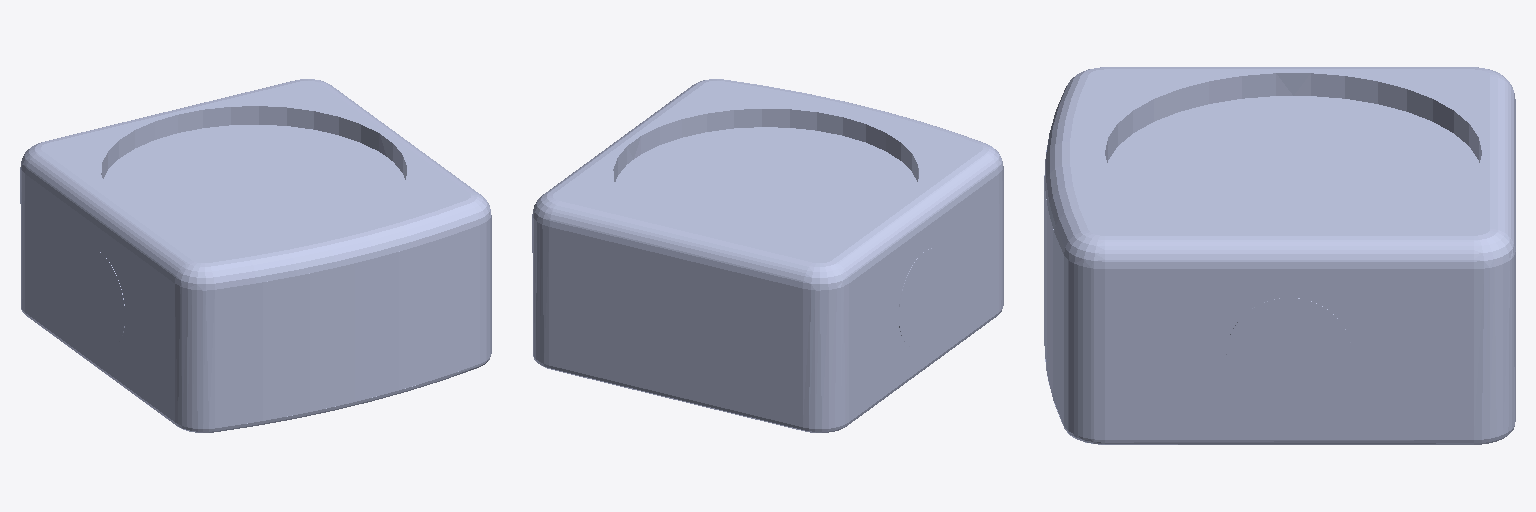
The robot description file, URDF, robot "pegasus":
<?xml version="1.0" encoding="utf-8"?>
<!-- This URDF was automatically created by SolidWorks to URDF Exporter! Originally created by [author] ([email redacted]) 
     Commit Version: 1.6.0-1-g15f4949  Build Version: 1.6.7594.29634
     For more information, please see http://wiki.ros.org/sw_urdf_exporter -->
<robot
  name="pegasus">
  <link
    name="base_link">
    <inertial>
      <origin
        xyz="-5.1322E-12 -0.0039245 -0.031363"
        rpy="0 0 0" />
      <mass
        value="18.619" />
      <inertia
        ixx="0.73322"
        ixy="8.2027E-12"
        ixz="3.3043E-12"
        iyy="1.3719"
        iyz="-0.011811"
        izz="0.93289" />
    </inertial>
    <visual>
      <origin
        xyz="0 0 0"
        rpy="0 0 0" />
      <geometry>
        <mesh
          filename="package://pegasus/meshes/base_link.STL" />
      </geometry>
      <material
        name="">
        <color
          rgba="0.79216 0.81961 0.93333 1" />
      </material>
    </visual>
    <collision>
      <origin
        xyz="0 0 0"
        rpy="0 0 0" />
      <geometry>
        <mesh
          filename="package://pegasus/meshes/base_link.STL" />
      </geometry>
    </collision>
  </link>
  <link
    name="symbol_link">
    <inertial>
      <origin
        xyz="-4.5103E-17 -4.9083E-17 1.7E-16"
        rpy="0 0 0" />
      <mass
        value="0.017671" />
      <inertia
        ixx="2.4851E-05"
        ixy="8.4503E-22"
        ixz="-2.369E-21"
        iyy="4.9701E-05"
        iyz="1.16E-20"
        izz="2.4851E-05" />
    </inertial>
    <visual>
      <origin
        xyz="0 0 0"
        rpy="0 0 0" />
      <geometry>
        <mesh
          filename="package://pegasus/meshes/symbol_link.STL" />
      </geometry>
      <material
        name="">
        <color
          rgba="0.79216 0.81961 0.93333 1" />
      </material>
    </visual>
    <collision>
      <origin
        xyz="0 0 0"
        rpy="0 0 0" />
      <geometry>
        <mesh
          filename="package://pegasus/meshes/symbol_link.STL" />
      </geometry>
    </collision>
  </link>
  <joint
    name="symbol_joint"
    type="fixed">
    <origin
      xyz="0 -0.0050515 -0.01"
      rpy="-3.1416 -1.5617 -1.5708" />
    <parent
      link="base_link" />
    <child
      link="symbol_link" />
    <axis
      xyz="0 1 0" />
  </joint>
  <link
    name="inner_link">
    <inertial>
      <origin
        xyz="-5.1322E-12 -0.0039245 -0.031363"
        rpy="0 0 0" />
      <mass
        value="18.619" />
      <inertia
        ixx="0.73322"
        ixy="8.2027E-12"
        ixz="3.3043E-12"
        iyy="1.3719"
        iyz="-0.011811"
        izz="0.93289" />
    </inertial>
    <visual>
      <origin
        xyz="0 0 0"
        rpy="0 0 0" />
      <geometry>
        <mesh
          filename="package://pegasus/meshes/inner_link.STL" />
      </geometry>
      <material
        name="">
        <color
          rgba="0.79216 0.81961 0.93333 1" />
      </material>
    </visual>
    <collision>
      <origin
        xyz="0 0 0"
        rpy="0 0 0" />
      <geometry>
        <mesh
          filename="package://pegasus/meshes/inner_link.STL" />
      </geometry>
    </collision>
  </link>
  <joint
    name="inner_joint"
    type="fixed">
    <origin
      xyz="-0.01 -0.0050515 -0.01"
      rpy="-1.5708 0 -3.1416" />
    <parent
      link="base_link" />
    <child
      link="inner_link" />
    <axis
      xyz="0 0 0" />
  </joint>
</robot>

--- Render facts (derived) ---
Views: 3 orthographic renders of the robot side by side, from view 1: azimuth 30°, elevation 25°; view 2: azimuth 150°, elevation 25°; view 3: azimuth 270°, elevation 25°.
Model pegasus with 3 links and 2 joints (2 fixed), rooted at base_link, posed every joint at zero.
Links seen in each view (by area): view 1: base_link, inner_link, symbol_link; view 2: base_link, inner_link, symbol_link; view 3: base_link, inner_link, symbol_link.
Link boxes in pixels (<box>): base_link: <box>20,79,491,432</box>; inner_link: <box>103,125,479,427</box>; symbol_link: <box>74,248,124,347</box>; base_link: <box>532,79,1003,432</box>; inner_link: <box>615,127,916,237</box>; symbol_link: <box>899,248,949,347</box>; base_link: <box>1045,67,1515,444</box>; inner_link: <box>1044,96,1479,424</box>; symbol_link: <box>1226,298,1351,411</box>.
Size in the robot's own frame: 0.5306 by 0.5618 by 0.2648 metres.
Meshes: 3 distinct files referenced, 3 mesh visuals loaded (3 binary STL).